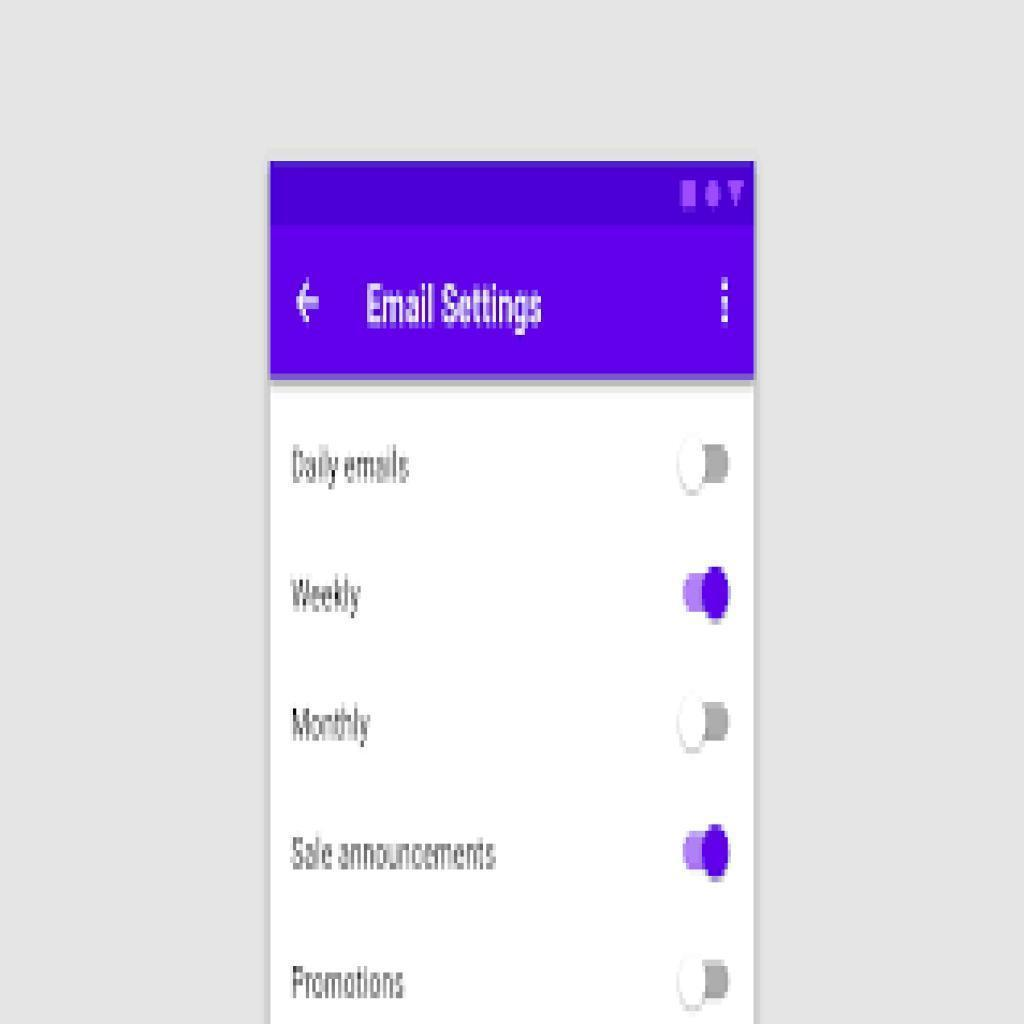icon: (289, 274, 324, 326), (712, 270, 740, 333)
label: (357, 272, 551, 338), (288, 829, 503, 877), (282, 437, 421, 493), (287, 957, 409, 1011), (288, 569, 365, 625), (289, 700, 371, 751)
switch: (677, 692, 730, 753), (677, 952, 728, 1012), (682, 821, 730, 882), (679, 439, 729, 496), (682, 565, 729, 624)
